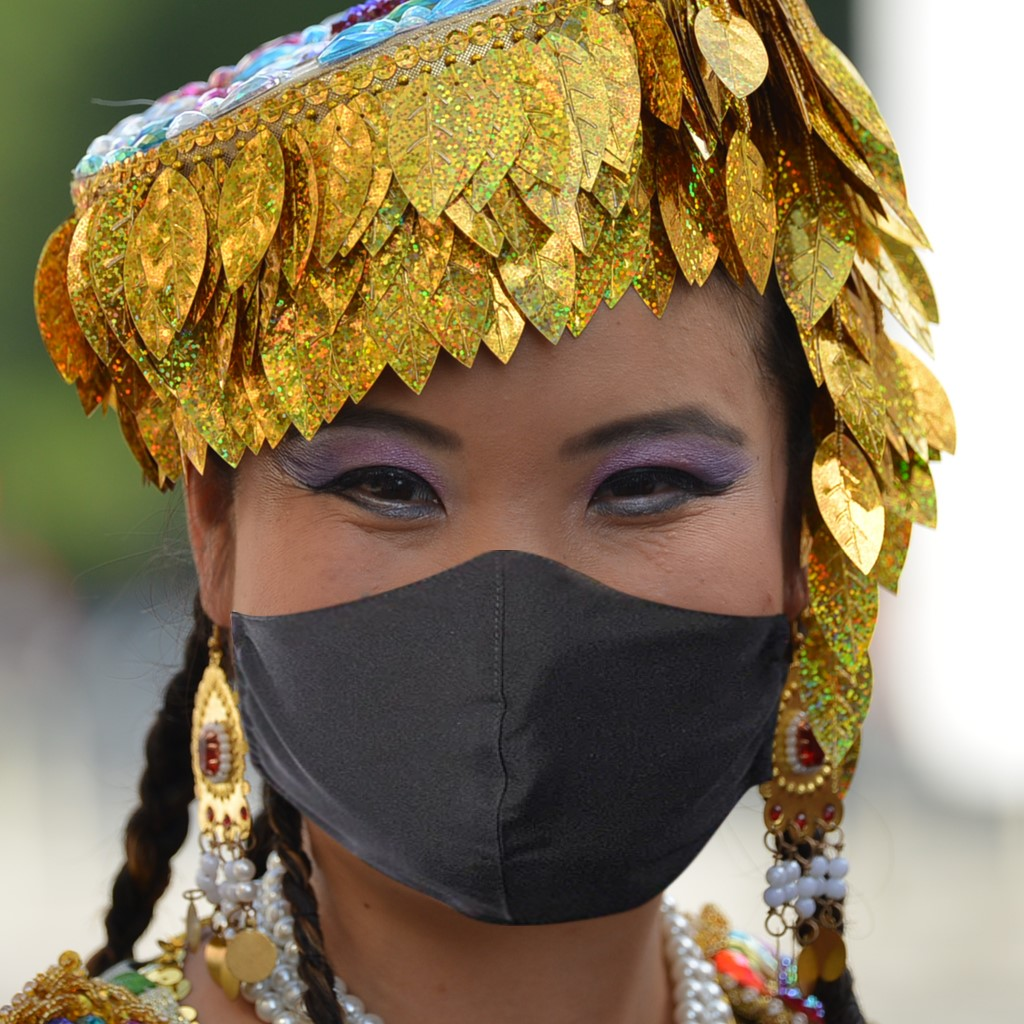con_mascara: (177, 105, 821, 934)
